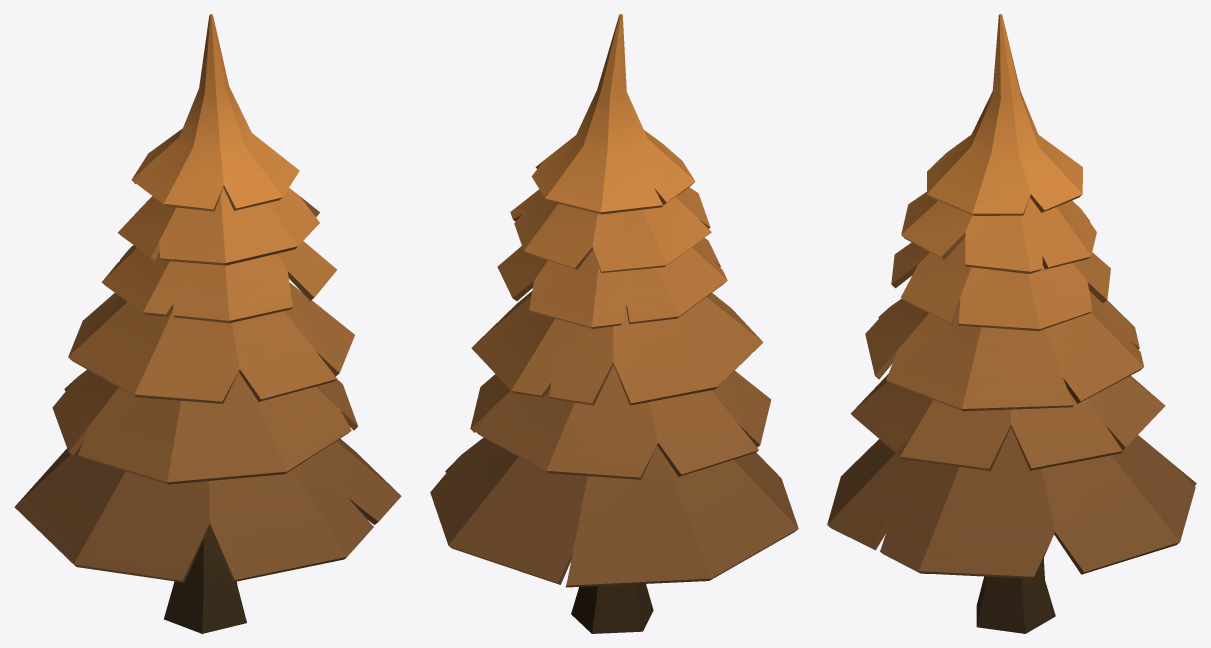
The model's file is Autumn_Tree_03.glb.
The picture shows the model from 3 angles, left to right: view 1: azimuth 30°, elevation 25°; view 2: azimuth 150°, elevation 25°; view 3: azimuth 270°, elevation 25°; orthographic projection.
Parts seen in each view (by area): view 1: Autumn_Tree_03_LOD0; view 2: Autumn_Tree_03_LOD0; view 3: Autumn_Tree_03_LOD0.
Boxes of the visible parts, x1,y1,x2,y2 form: Autumn_Tree_03_LOD0: (14,14,401,633); Autumn_Tree_03_LOD0: (430,14,798,633); Autumn_Tree_03_LOD0: (827,14,1196,633).
Size of what is drawn, in the model's own units: 2.37 by 4.3 by 2.4.
Materials: 1 (1 with a texture image).
